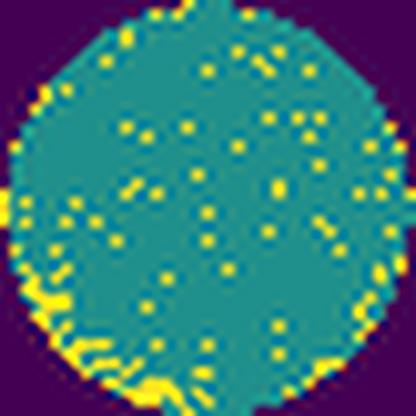Edge-Loc: (14, 261, 122, 384), (99, 352, 194, 415)
